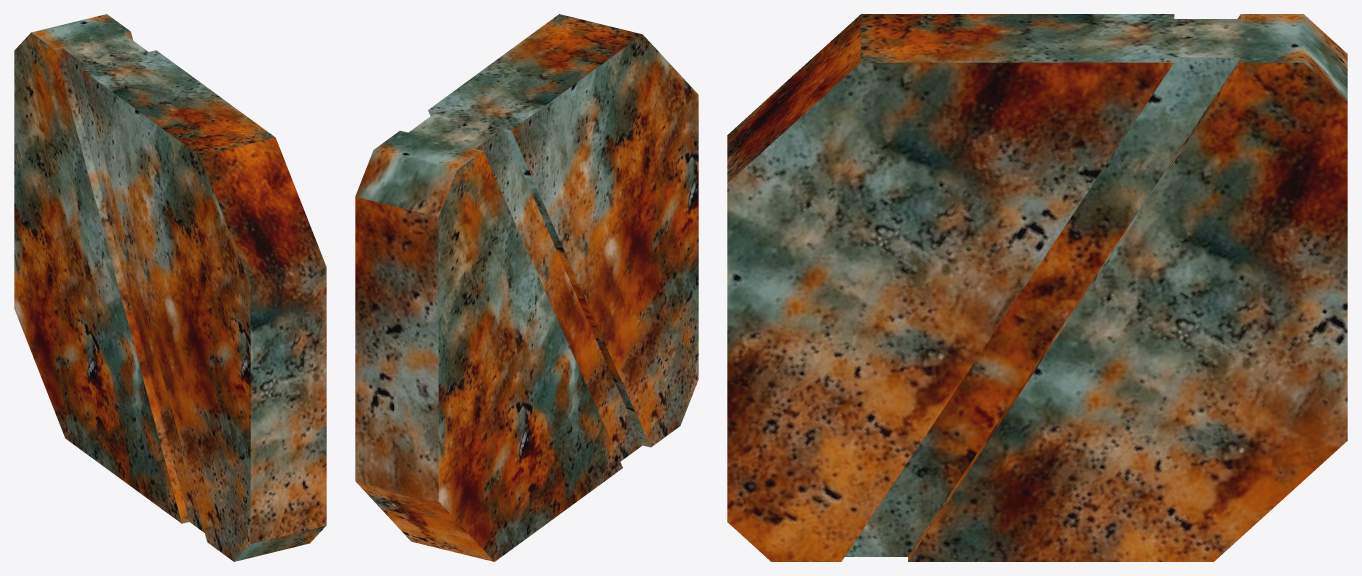
The model's file is doorclosed.glb.
3 renders of one model, left to right at view 1: azimuth 30°, elevation 25°; view 2: azimuth 150°, elevation 25°; view 3: azimuth 270°, elevation 25°, orthographic. The views are drawn at different scales.
Parts seen in each view (by area): view 1: Cube; view 2: Cube; view 3: Cube.
Boxes of the visible parts, <box> form: Cube: <box>14,14,326,561</box>; Cube: <box>355,14,698,561</box>; Cube: <box>727,14,1347,561</box>.
Size of the model in its own units: 0.5 by 2.4 by 2.7.
Materials: 1 (1 with a texture image).
